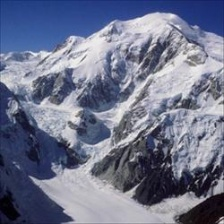neutral: (4, 9, 222, 201)
